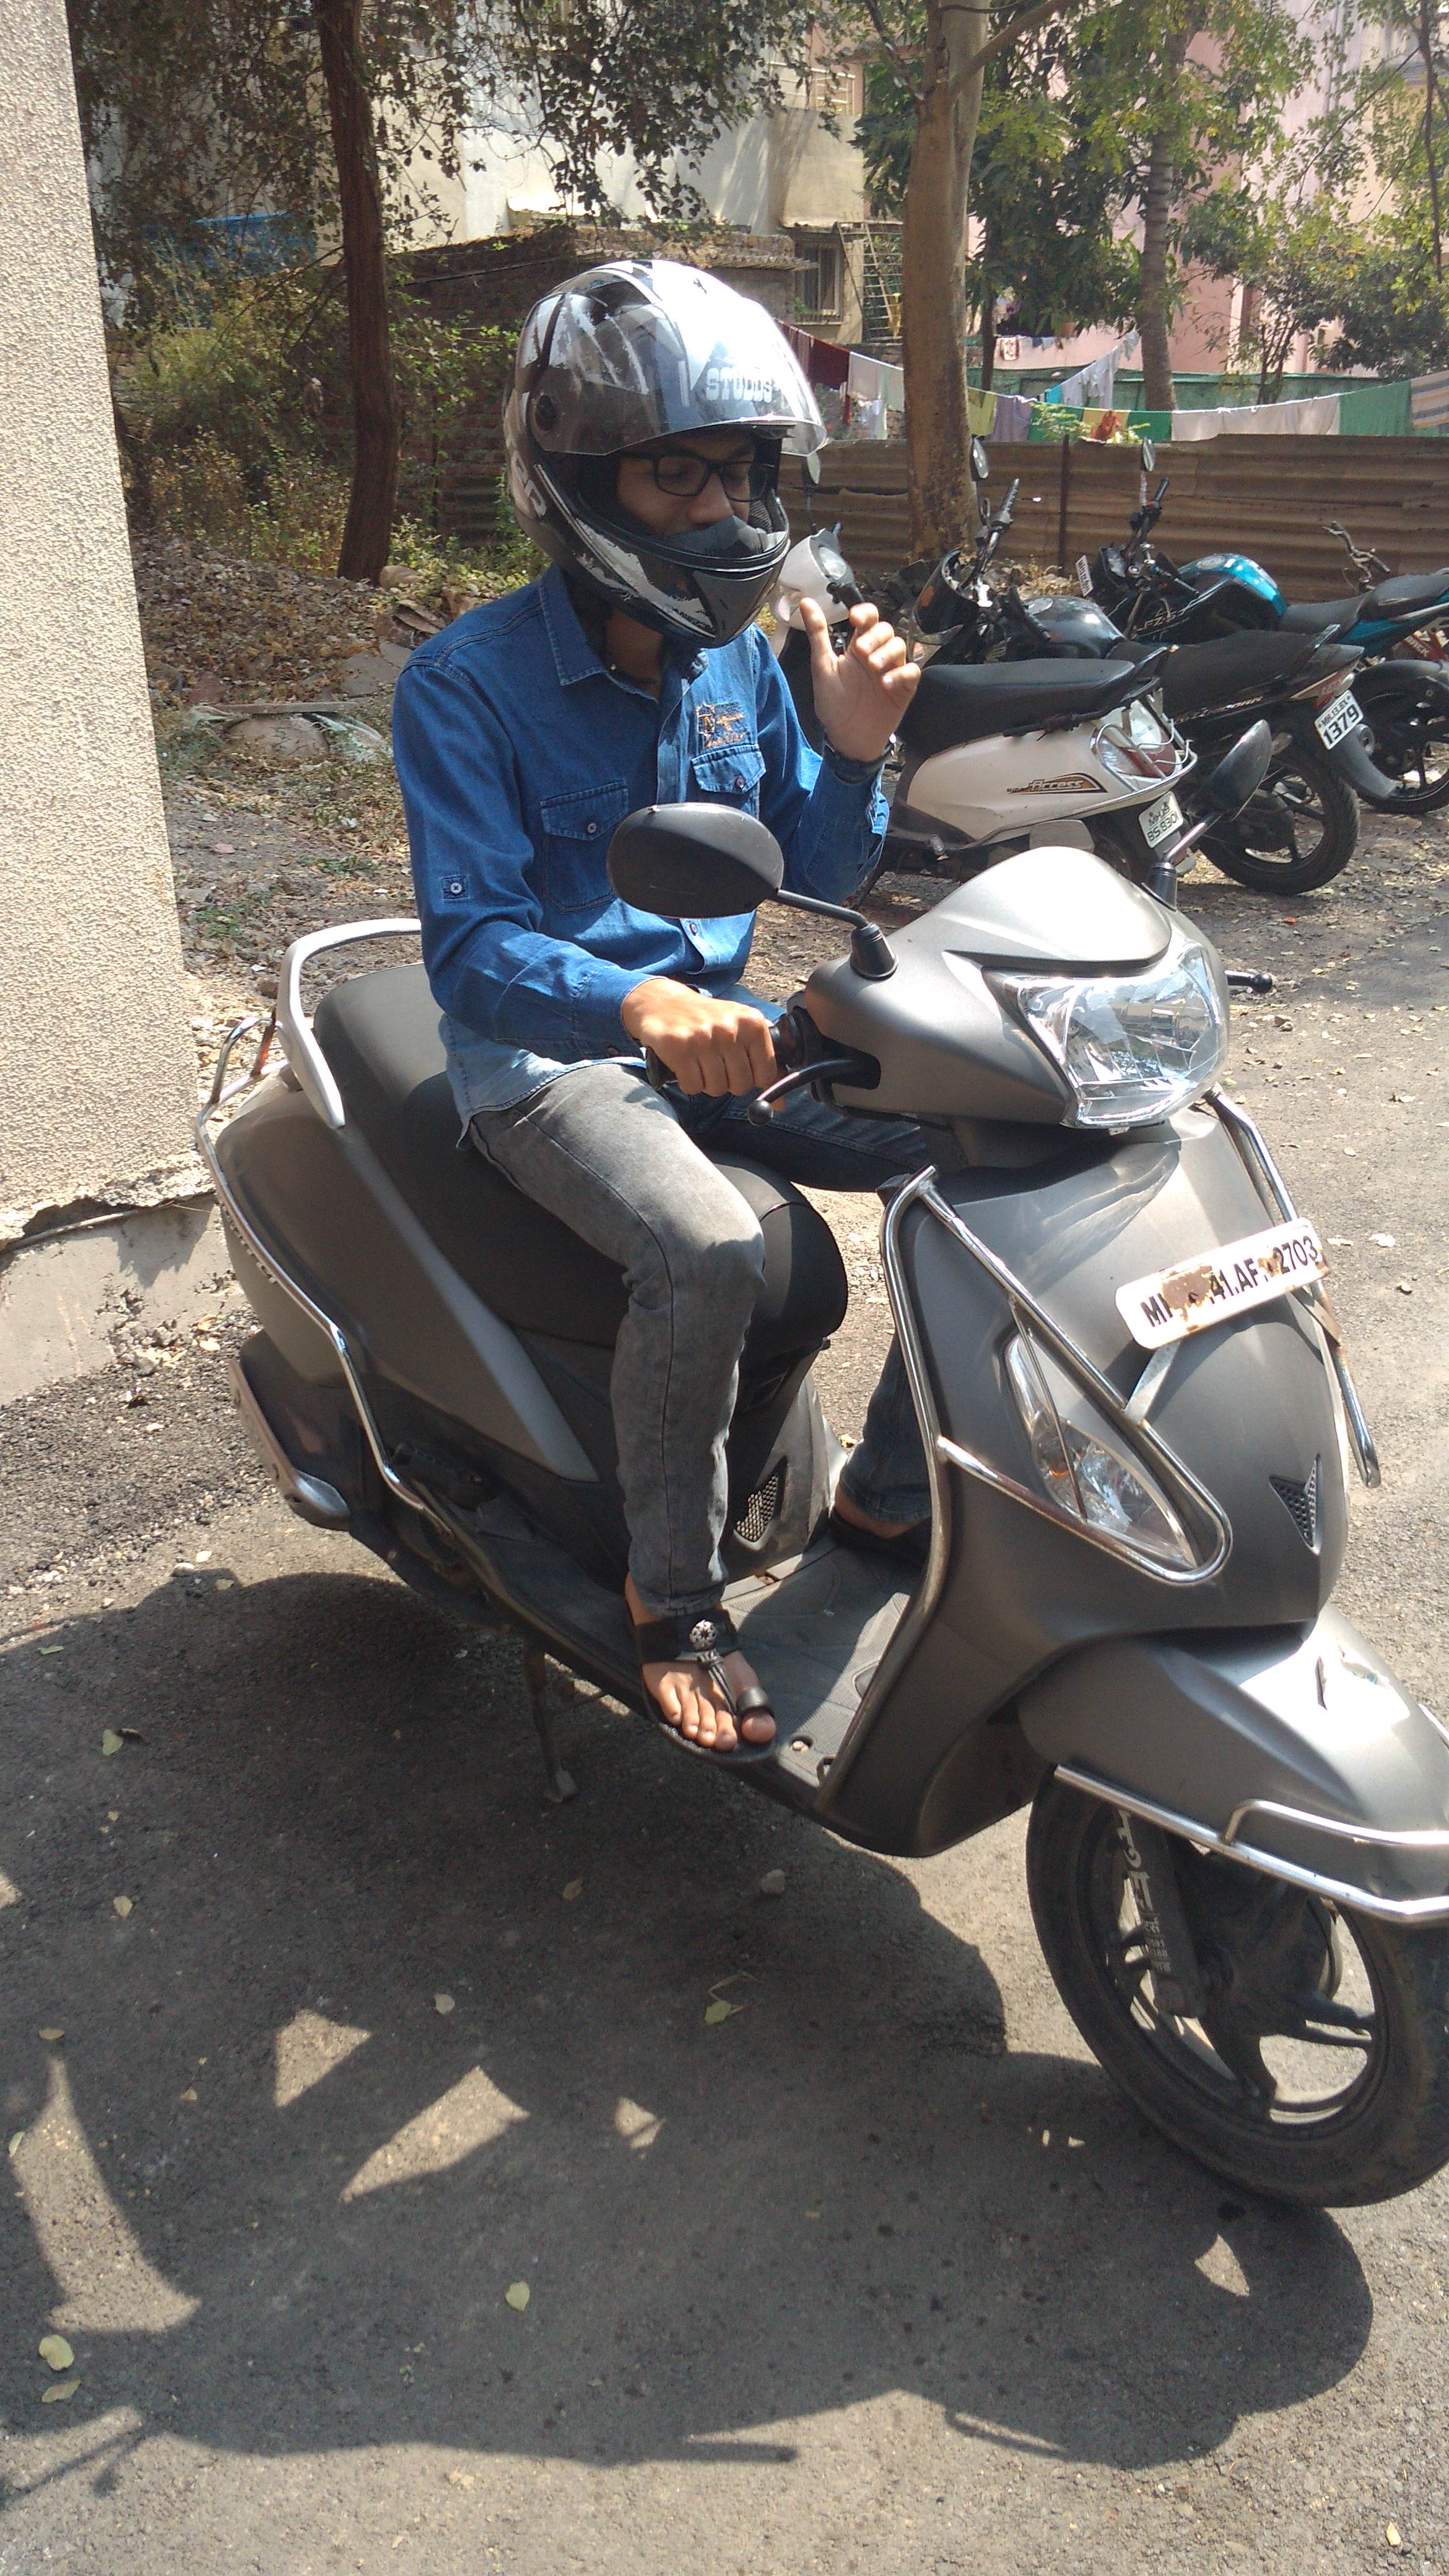helmet: (389, 257, 1023, 1325)
